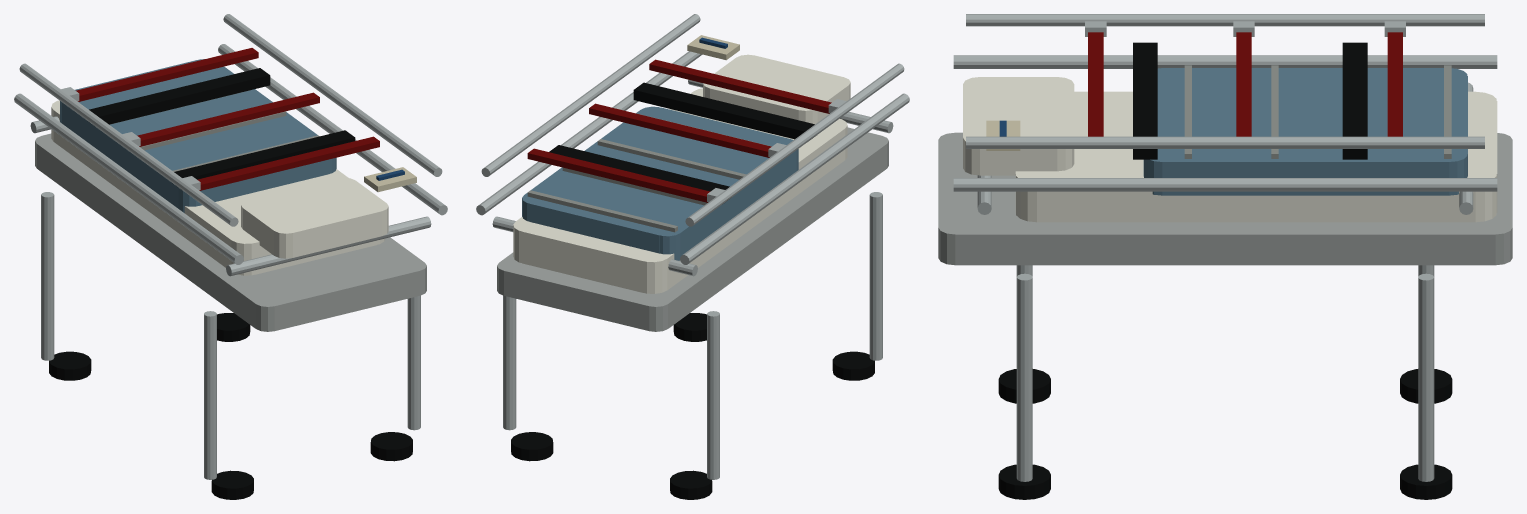
Rendered from ambulance_patient_stretcher_runtime.obj.
3 renders of one model, left to right at view 1: azimuth 30°, elevation 25°; view 2: azimuth 150°, elevation 25°; view 3: azimuth 270°, elevation 25°, orthographic. The views are drawn at different scales.
Parts seen in each view (by area): view 1: ambulance_patient_stretcher_runtime; view 2: ambulance_patient_stretcher_runtime; view 3: ambulance_patient_stretcher_runtime.
Boxes of the visible parts, box(x1,y1,x2,y2) form: ambulance_patient_stretcher_runtime: box(14, 14, 447, 499); ambulance_patient_stretcher_runtime: box(476, 14, 909, 499); ambulance_patient_stretcher_runtime: box(938, 14, 1512, 499).
Bounding box in the file's own units: 0.992 × 1.31 × 1.86.
